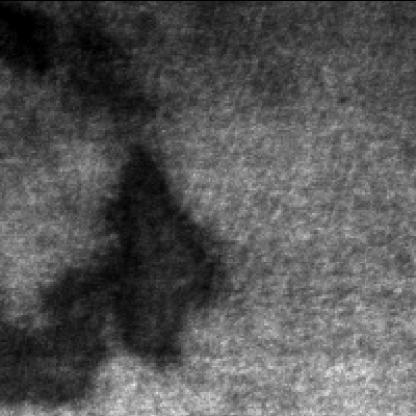patches: (8, 152, 212, 376), (10, 17, 156, 127), (2, 6, 62, 76)
